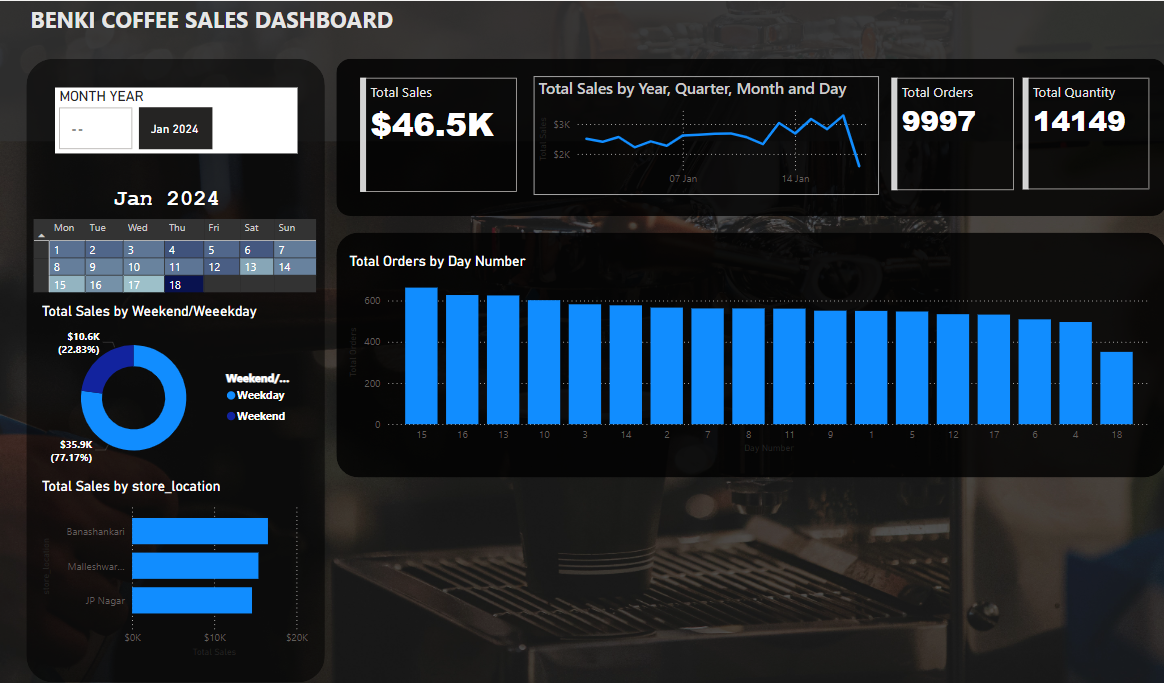

The page's visual inventory and layout, read from the dashboard file:
{"tool":"powerbi","page":{"name":"Page 1","canvas":[1400,850],"ordinal":0},"visuals":[{"type":"shape","box":[0,0,1400.3,199.6],"z":0},{"type":"shape","box":[31.5,100.6,358.7,748.9],"z":1000},{"type":"shape","box":[403.2,100,996.8,188.9],"z":2000},{"type":"textbox","box":[31.5,30,475.8,58.5],"z":3000},{"type":"cardVisual","fields":{"Data":["Transactions.Total Sales"]},"box":[427.7,118.6,198.1,147.1],"z":4000},{"type":"advancedSlicerVisual","fields":{"Values":["Date Table.MONTH YEAR"]},"box":[66,135.1,291.2,79.5],"z":5000},{"type":"lineChart","fields":{"Category":["Date Table.Date.Variation.Date Hierarchy.Year","Date Table.Date.Variation.Date Hierarchy.Quarter","Date Table.Date.Variation.Date Hierarchy.Month","Date Table.Date.Variation.Date Hierarchy.Day"],"Y":["Transactions.Total Sales"]},"box":[640.9,121.6,414.2,142.6],"z":6000},{"type":"cardVisual","fields":{"Data":["Transactions.Total Orders"]},"box":[1065.6,118.6,157.6,145.6],"z":7000},{"type":"cardVisual","fields":{"Data":["Transactions.Total Quantity"]},"box":[1223.2,118.6,162.1,144.1],"z":8000},{"type":"pivotTable","fields":{"Rows":["Date Table.Week Number"],"Columns":["Date Table.Day Name"],"Values":["Min(Date Table.Day Number)"]},"box":[31.7,288.9,358.7,128],"z":9000},{"type":"card","fields":{"Values":["Min(Date Table.MONTH YEAR)"]},"box":[120.6,246,160.3,42.9],"z":10000},{"type":"donutChart","fields":{"Y":["Transactions.Total Sales"],"Category":["Date Table.Weekend/Weeekday"]},"box":[45,393.2,330.2,210.1],"z":11000},{"type":"barChart","fields":{"Y":["Transactions.Total Sales"],"Category":["Transactions.store_location"]},"box":[45,603.3,330.2,220.6],"z":12000},{"type":"shape","box":[403.7,309.2,996.6,294.2],"z":13000},{"type":"columnChart","fields":{"Y":["Transactions.Total Orders"],"Category":["Date Table.Day Number"]},"box":[414.2,333.2,971.1,246.1],"z":14000}]}

Visuals, with their boxes on the page's 1400x850 design canvas (x1, y1, x2, y2). These are canvas units, not pixel positions in the 1164x683 screenshot, which may show the page scaled, cropped or inside an application window:
shape: 0:0:1400:200
shape: 32:101:390:850
shape: 403:100:1400:289
textbox: 32:30:507:88
cardVisual - Transactions.Total Sales: 428:119:626:266
advancedSlicerVisual - Date Table.MONTH YEAR: 66:135:357:215
lineChart - Date Table.Date.Variation.Date Hierarchy.Year x Date Table.Date.Variation.Date Hierarchy.Quarter: 641:122:1055:264
cardVisual - Transactions.Total Orders: 1066:119:1223:264
cardVisual - Transactions.Total Quantity: 1223:119:1385:263
pivotTable - Date Table.Week Number x Date Table.Day Name: 32:289:390:417
card - Min(Date Table.MONTH YEAR): 121:246:281:289
donutChart - Transactions.Total Sales x Date Table.Weekend/Weeekday: 45:393:375:603
barChart - Transactions.Total Sales x Transactions.store_location: 45:603:375:824
shape: 404:309:1400:603
columnChart - Transactions.Total Orders x Date Table.Day Number: 414:333:1385:579
